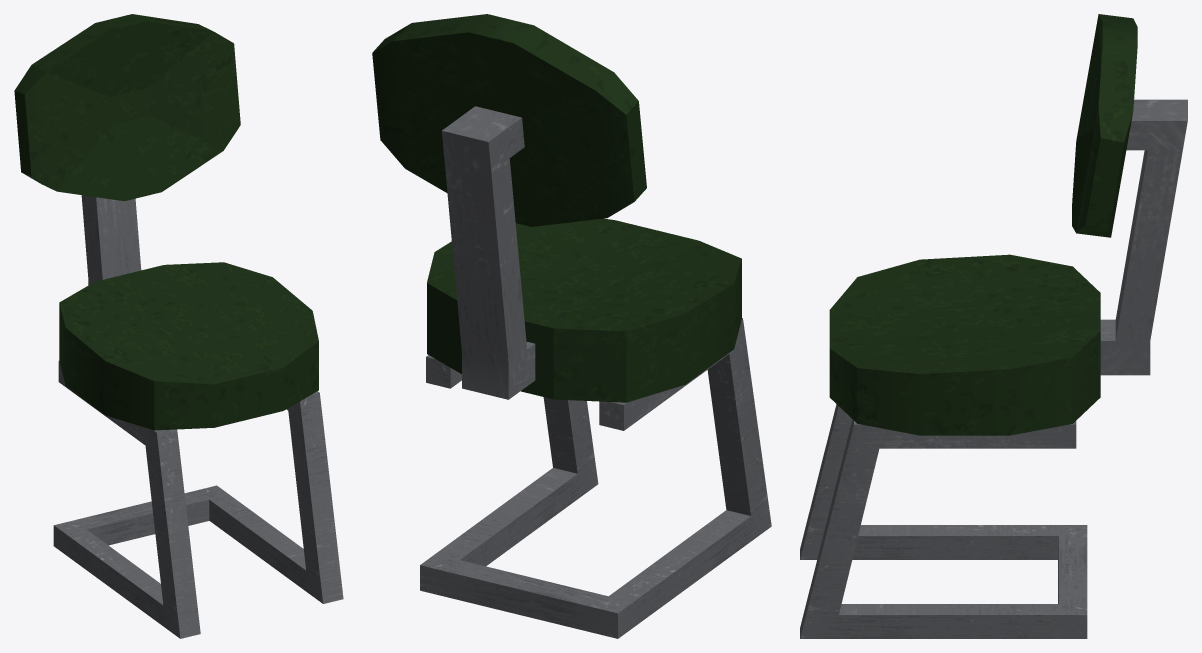
Rendered from mb_chair.fbx.
3 renders of one model, left to right at view 1: azimuth 30°, elevation 25°; view 2: azimuth 150°, elevation 25°; view 3: azimuth 270°, elevation 25°, orthographic. The views are drawn at different scales.
Parts seen in each view (by area): view 1: pCube3; view 2: pCube3; view 3: pCube3.
Part boxes in pixels (left/top/right/bottom): pCube3: left=14, top=14, right=343, bottom=638; pCube3: left=372, top=14, right=771, bottom=638; pCube3: left=800, top=14, right=1187, bottom=638.
Bounding box in the file's own units: 1.01 × 2.29 × 1.43.
1 material, 1 textured.
